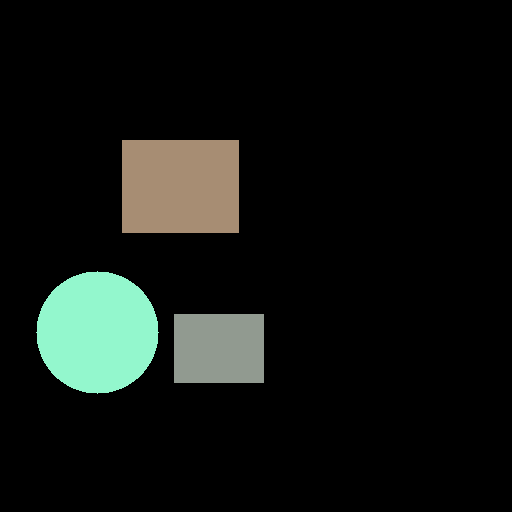circle: (36, 271, 158, 393)
rectangle: (122, 140, 238, 232), (174, 314, 263, 382)
